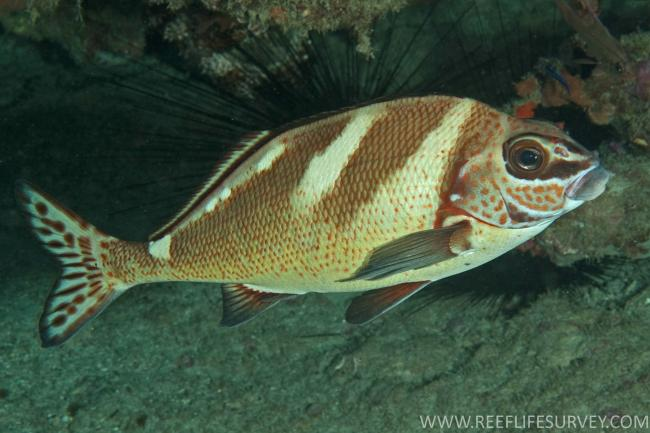fish: (12, 93, 610, 350)
